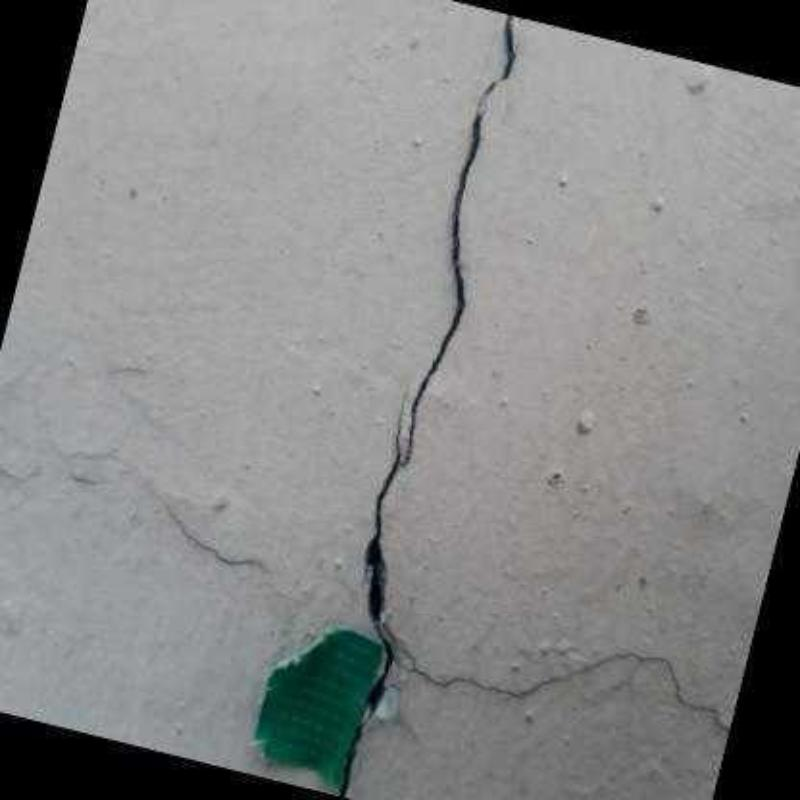pothole: (402, 15, 517, 468), (338, 389, 407, 798), (404, 652, 729, 733), (152, 490, 265, 569)
